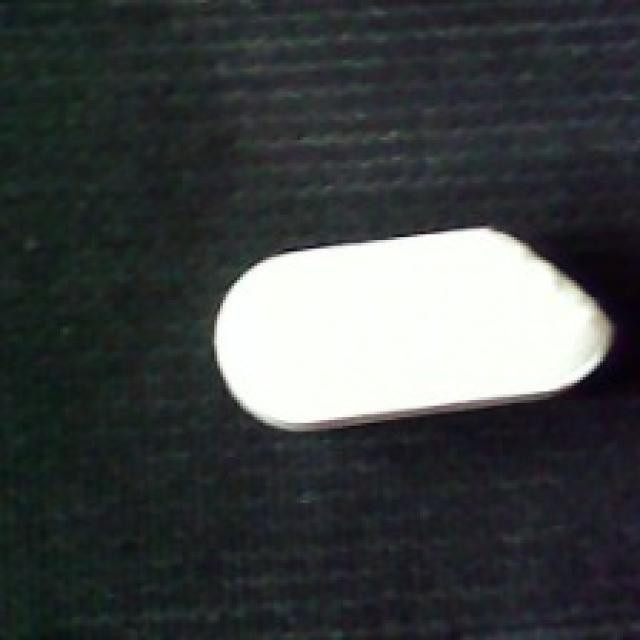defected: (209, 229, 614, 434)
